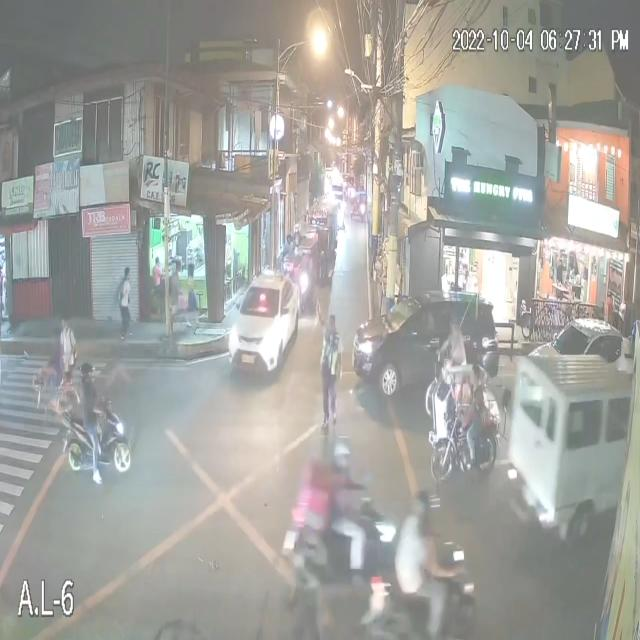Full-Faced: (328, 429, 359, 485), (72, 347, 100, 391)
Half-Faced: (414, 484, 441, 536)
